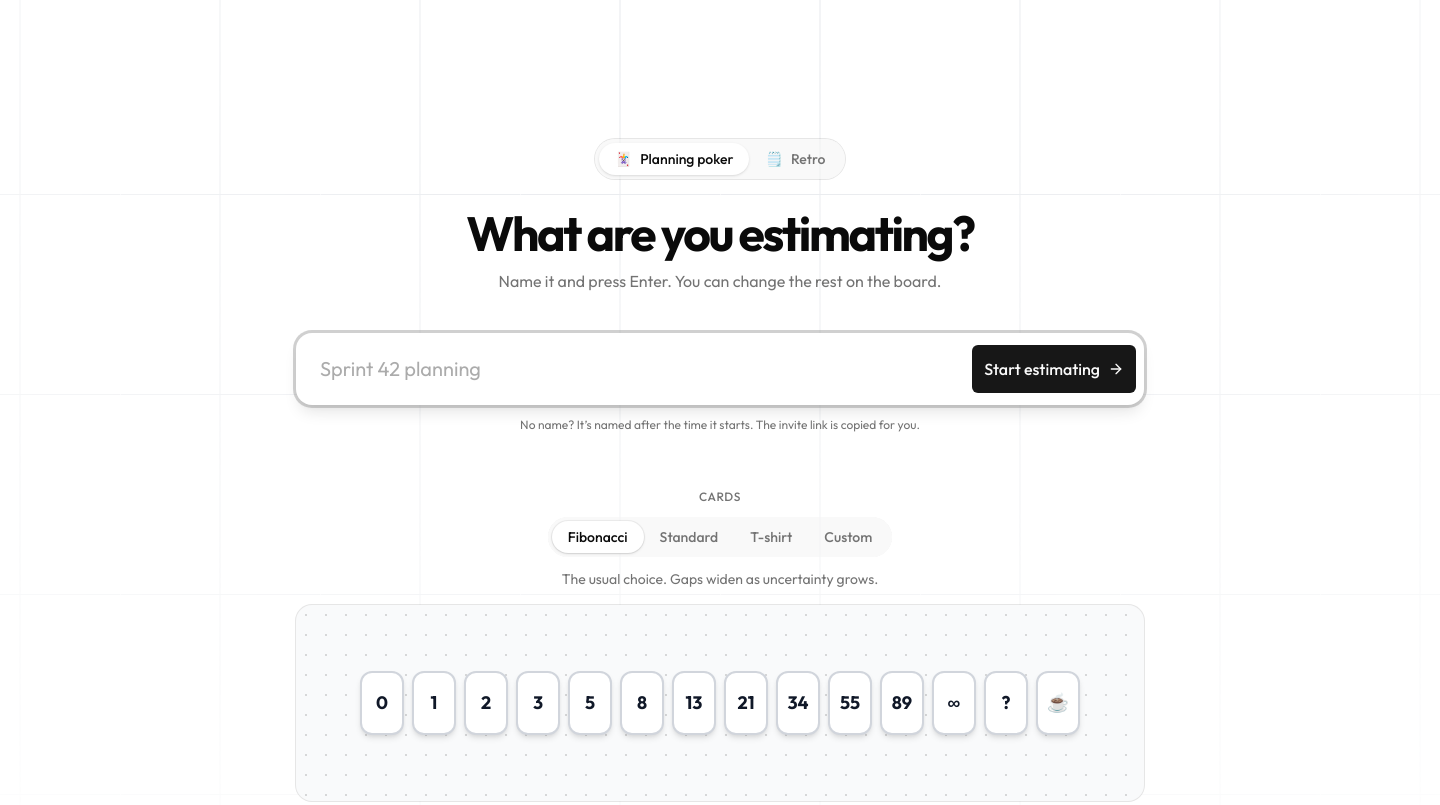
Test: CreateContent's deck › lays a card once, and says so
Click the radio button labelled "Custom" at (848, 537), box left=824, top=528, right=872, bottom=546
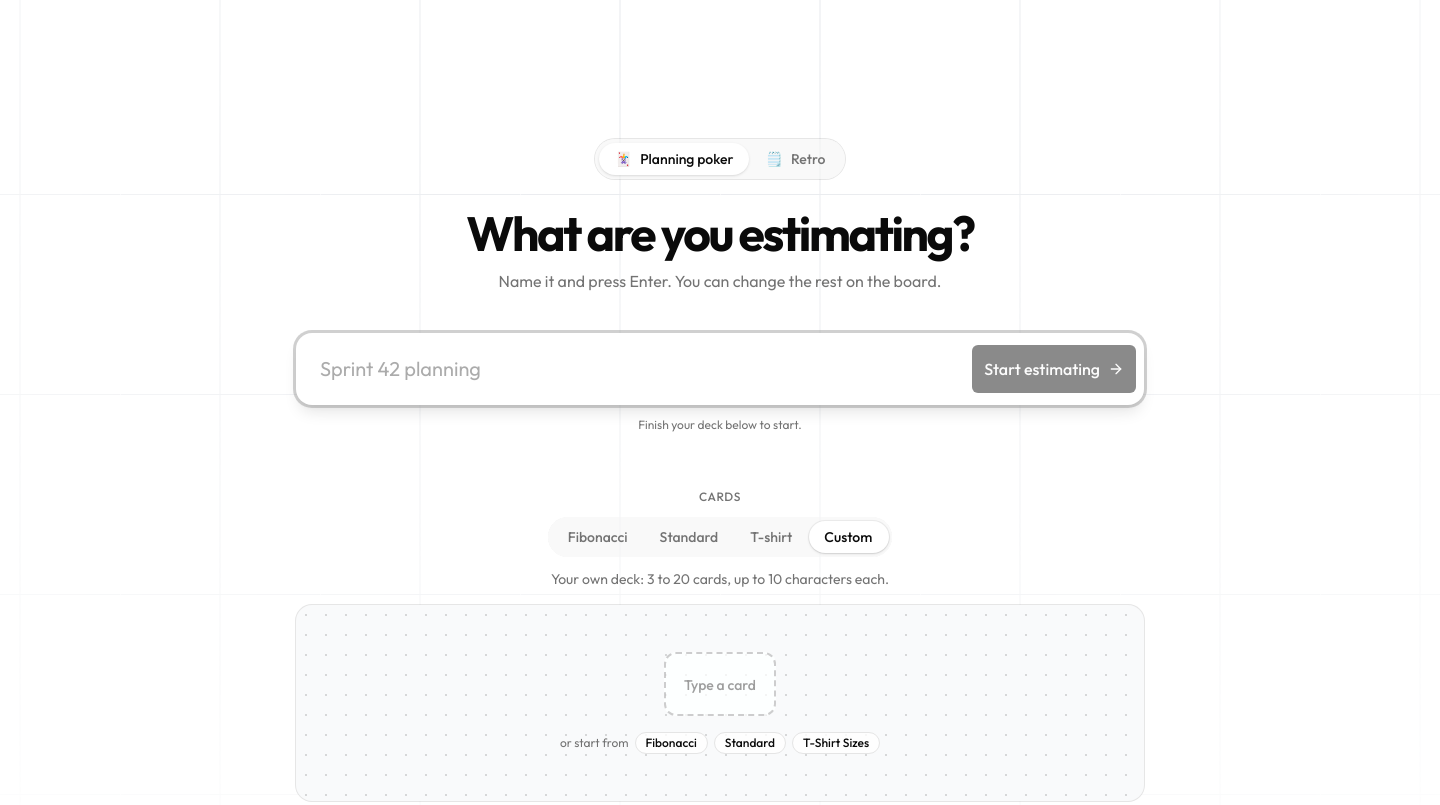
Type "1, 2, 1," into the field named "Add a card" at (720, 684), box left=664, top=652, right=776, bottom=716
(page scrolled)
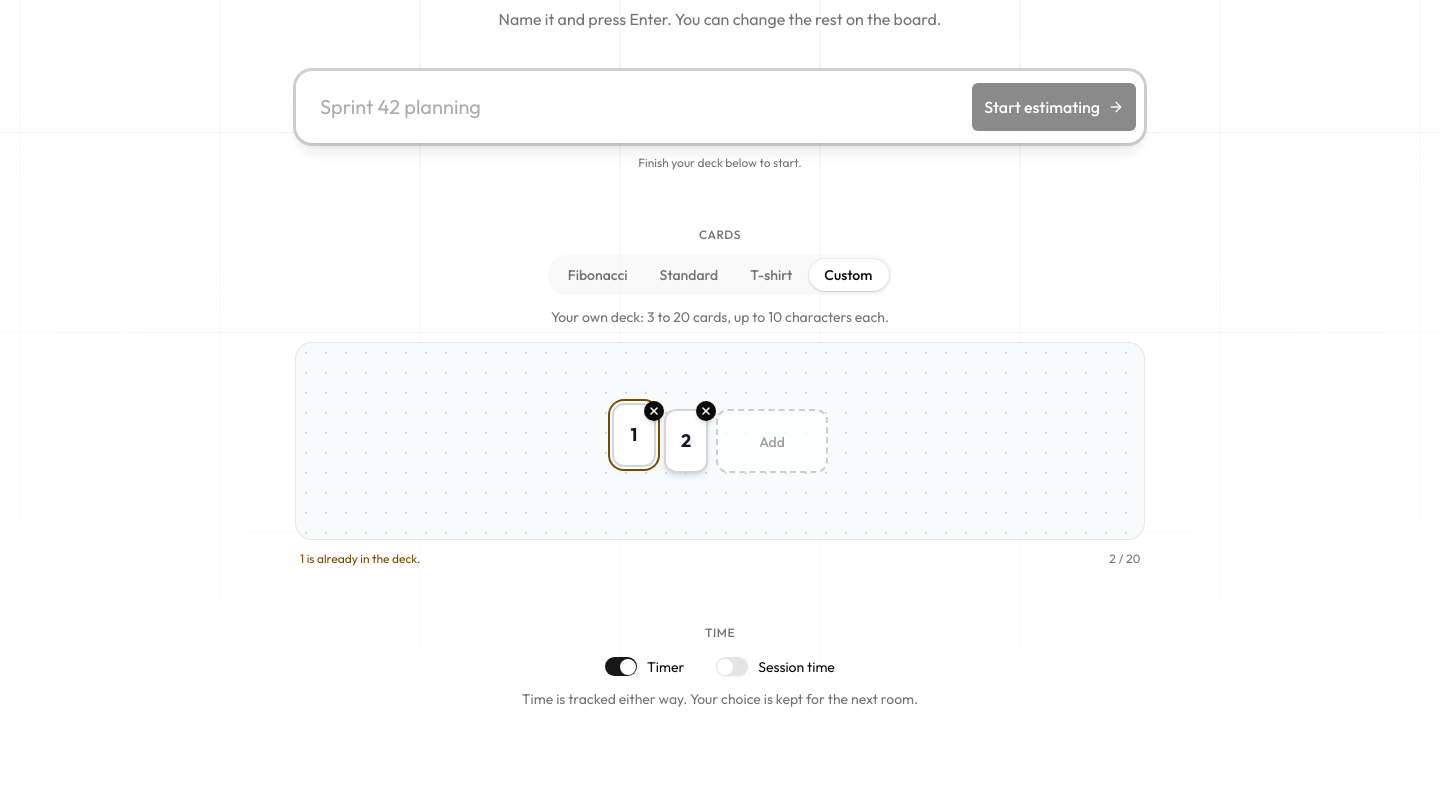
Check: the text "1 is already in the deck." is shown, box left=300, top=551, right=420, bottom=567
